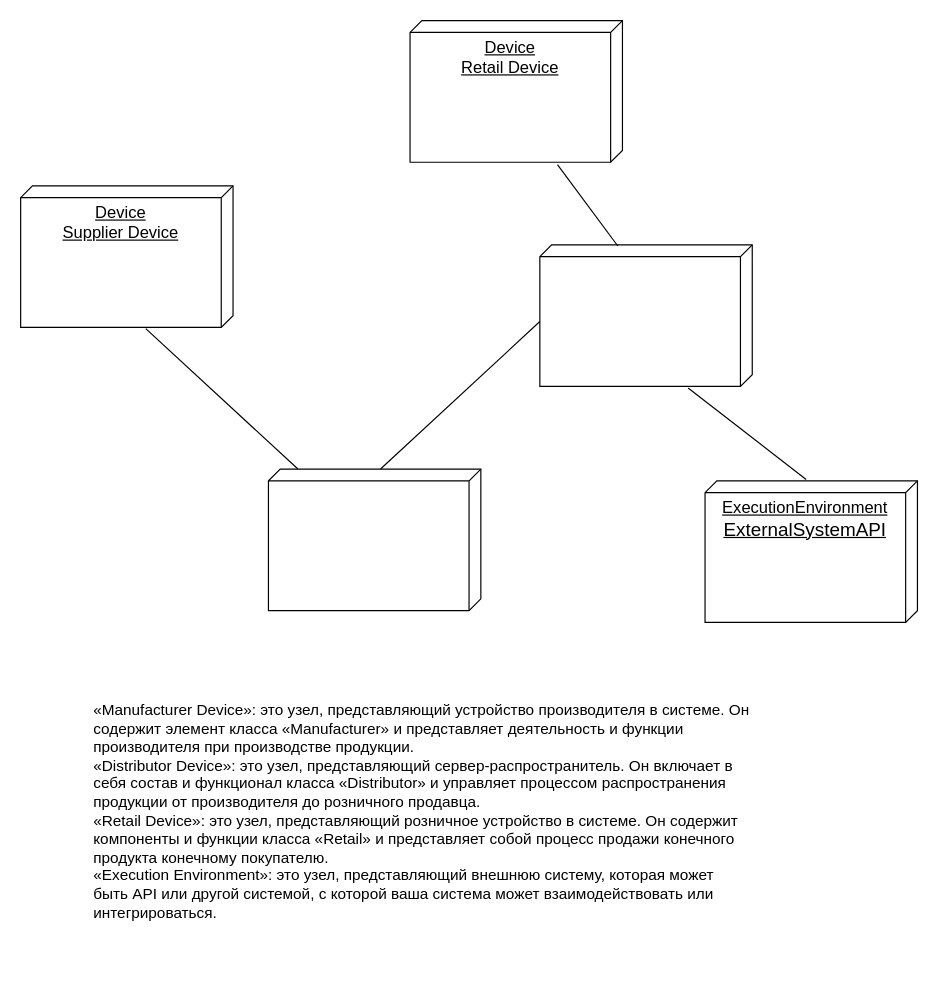
Some shapes in this 938 by 997 pixel diagram are drawn without their labels. The centre of each missing label's shape, as x and y in pixels:
Device Distributor Device: the point at 645,315
Device Manufacturer Device: the point at 374,539
